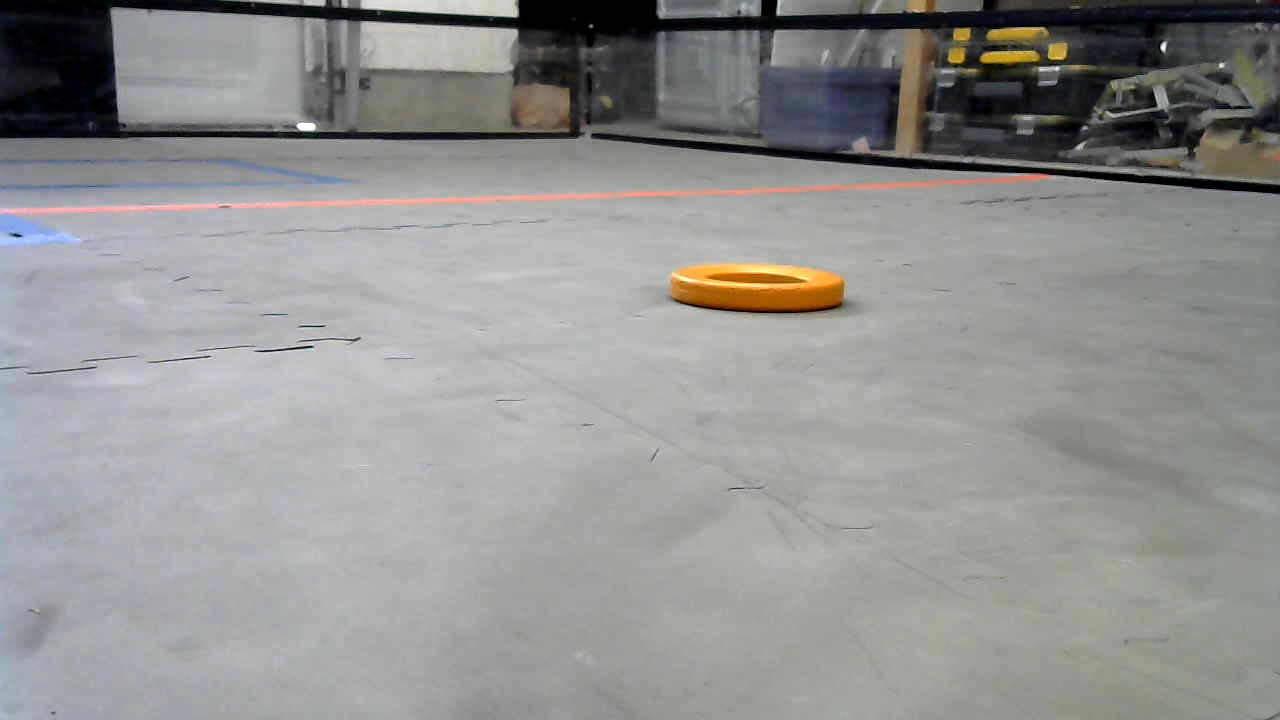OneStack: (672, 263, 845, 312)
